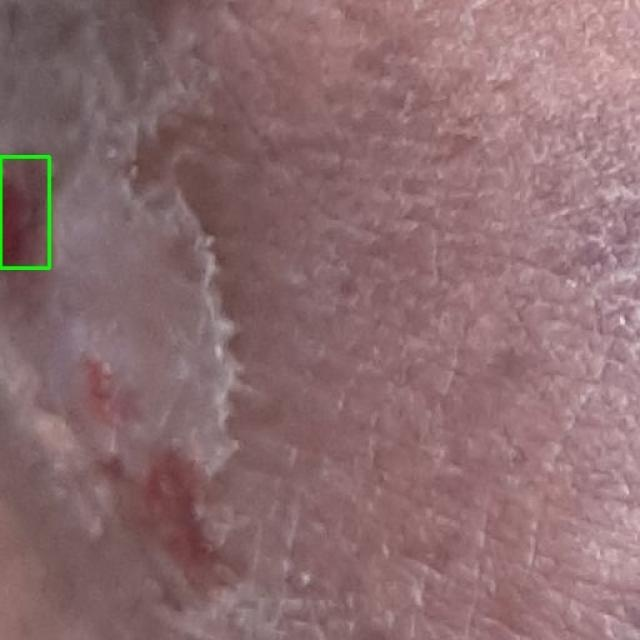Contact Dermatitis: (0, 156, 49, 268)
